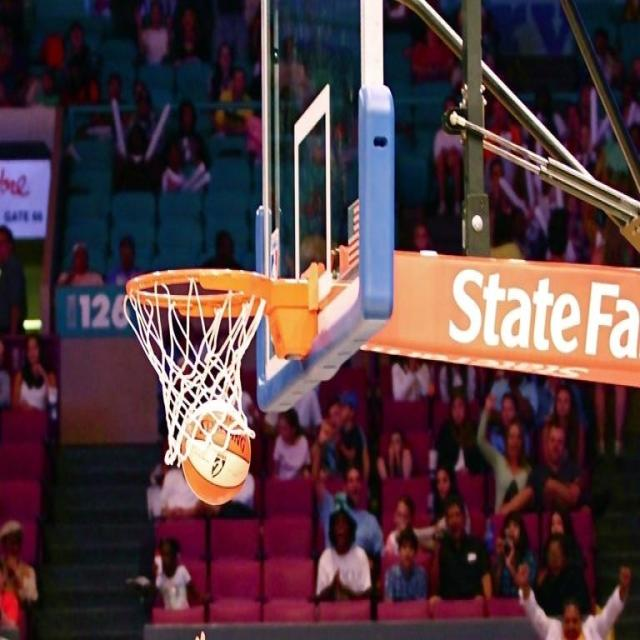basketball: (180, 409, 251, 505)
hoop: (121, 266, 266, 470)
